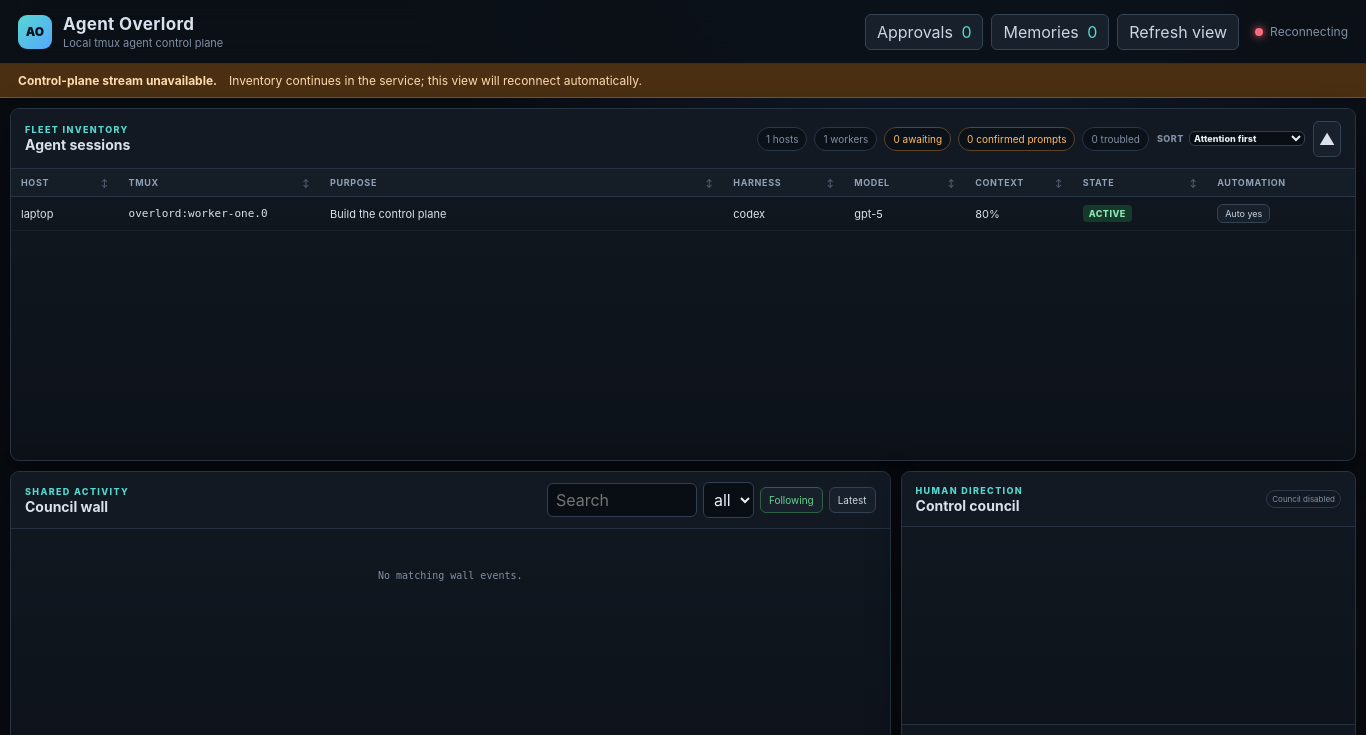
approval center exposes a readable council decision audit trail
The width and height of the screenshot is (1366, 735).
Click the button "Approvals 0" at (924, 32), box x1=865 y1=14 x2=984 y2=50
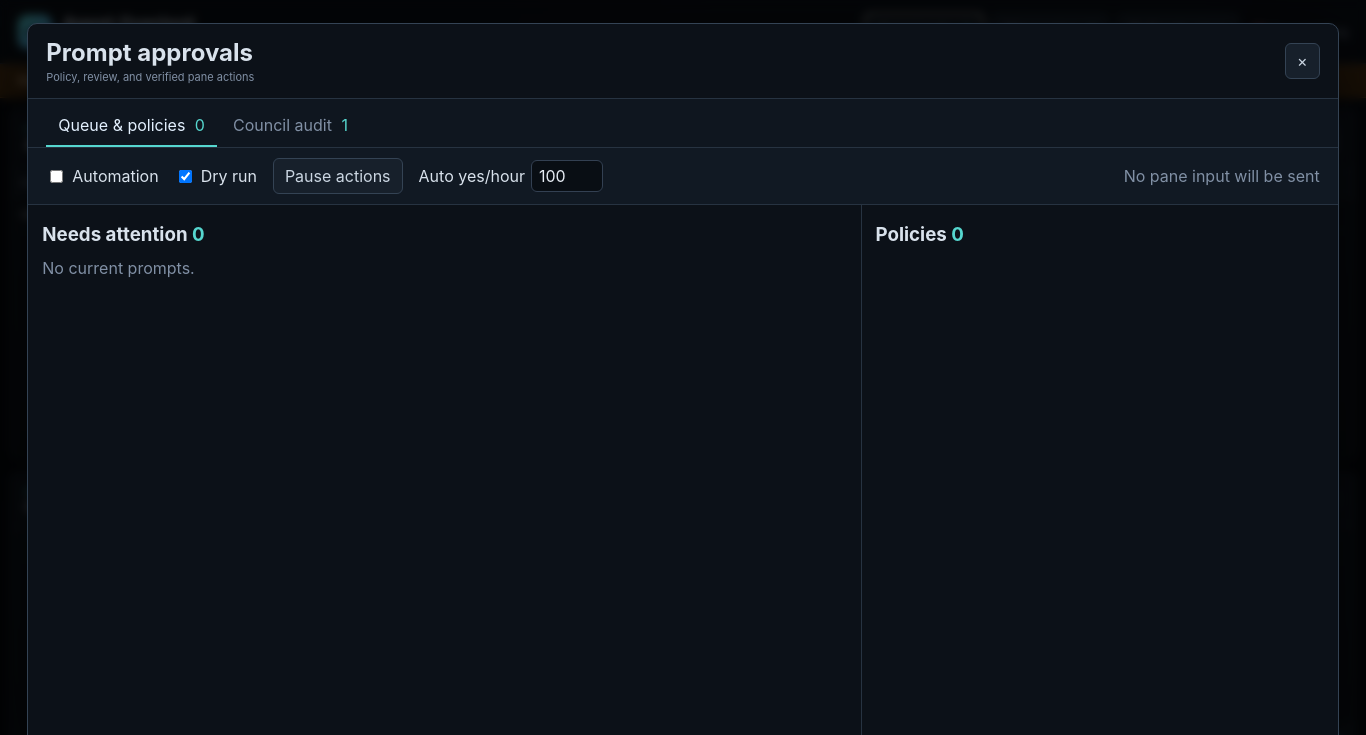
Click the button "Council audit 1" at (290, 127), box x1=221 y1=107 x2=360 y2=147
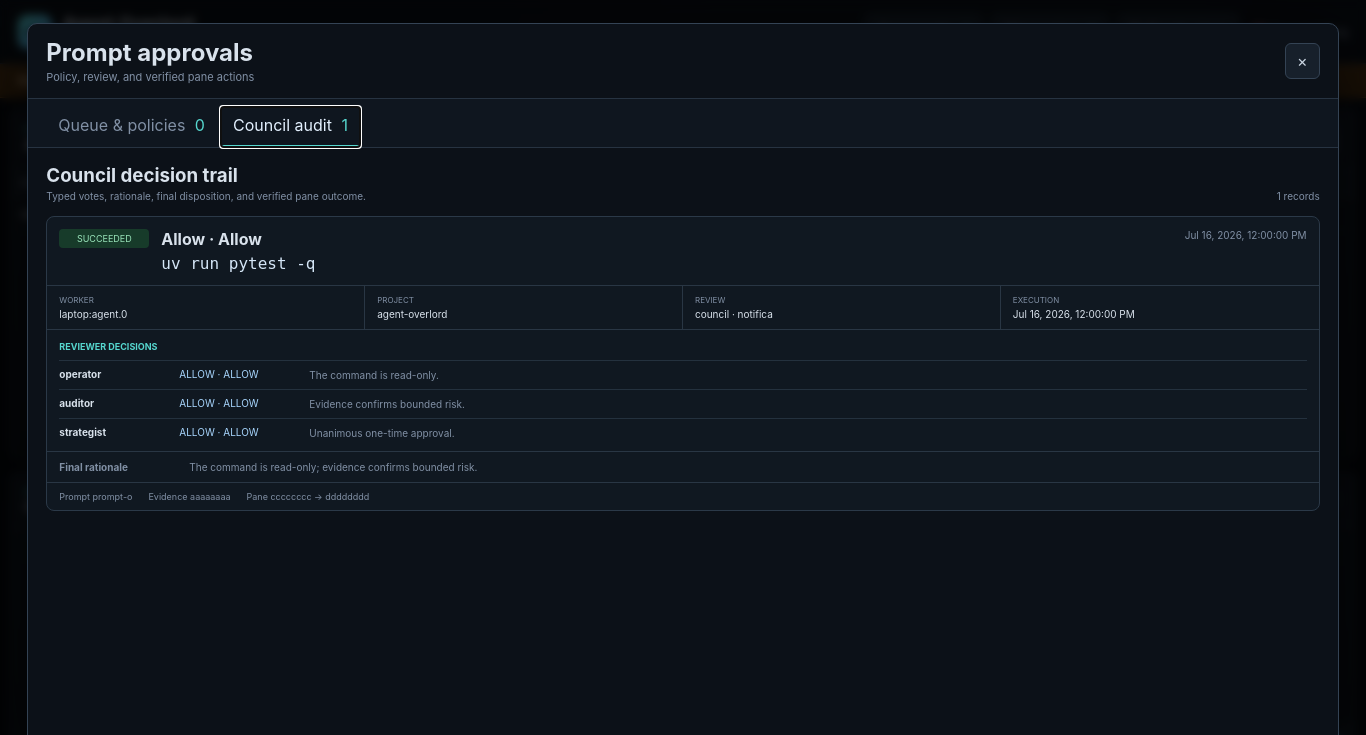
Expected: the heading "Council decision trail" is shown, x1=46 y1=164 x2=238 y2=187
Expected: the text "operator" is shown, x1=59 y1=368 x2=101 y2=380
Expected: the text "Evidence confirms bounded risk." is shown, x1=309 y1=398 x2=465 y2=410
